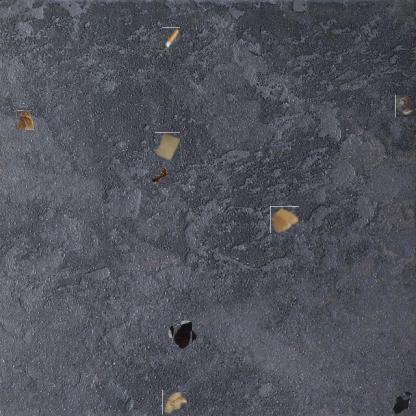dirty: (270, 206, 299, 233), (154, 133, 181, 161), (162, 390, 188, 415), (394, 96, 415, 117), (150, 168, 170, 188), (162, 27, 180, 48), (16, 110, 34, 130)
liquid: (170, 323, 195, 348), (394, 391, 416, 415)
